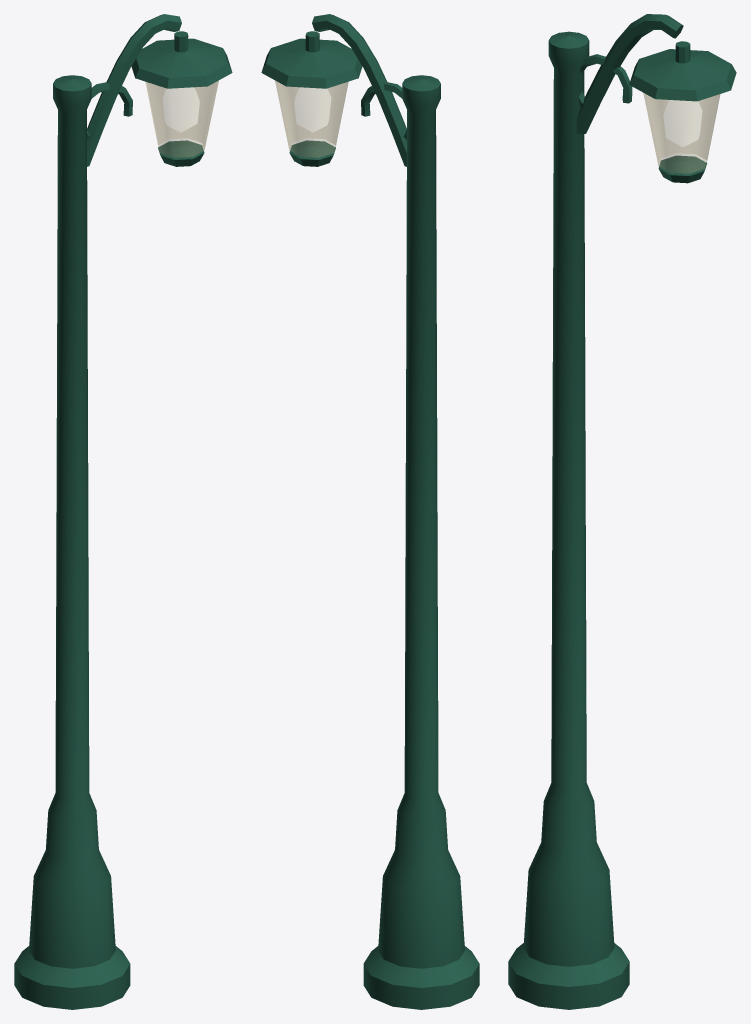
File: lamp_post.glb
3 views of the same model, side by side, from view 1: azimuth 30°, elevation 25°; view 2: azimuth 150°, elevation 25°; view 3: azimuth 330°, elevation 25° (orthographic). The views are drawn at different scales.
Visible parts, largest first — view 1: lamp_post_mesh; view 2: lamp_post_mesh; view 3: lamp_post_mesh.
Boxes of the visible parts, box(x1,y1,x2,y2) form: lamp_post_mesh: box(14, 14, 232, 1009); lamp_post_mesh: box(261, 14, 479, 1009); lamp_post_mesh: box(508, 14, 736, 1009).
Size of the model in its own units: 0.98 by 4.33 by 0.48.
